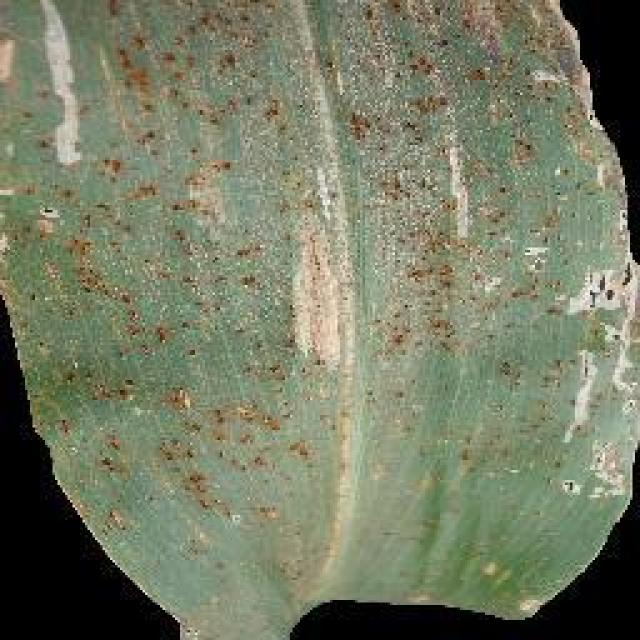Corn Common Rust: (106, 0, 566, 550)
